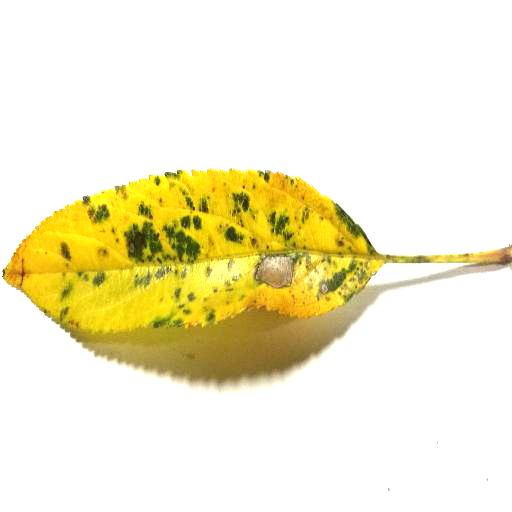Brown_Spot: (251, 245, 320, 287)
